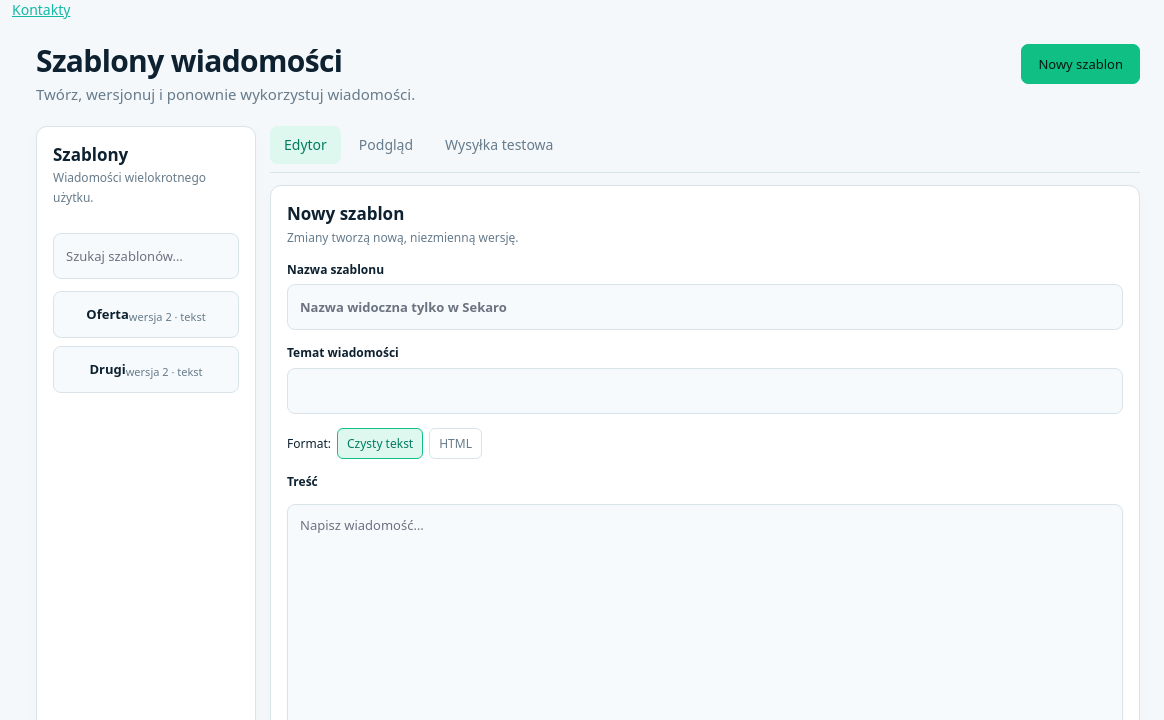
Test case: duplicates current content into an unsaved copy without writing or destroying its source
This screenshot has width=1164, height=720.
Click the button "Oferta wersja 2 · tekst".
click(146, 314)  # box [53,291,239,338]
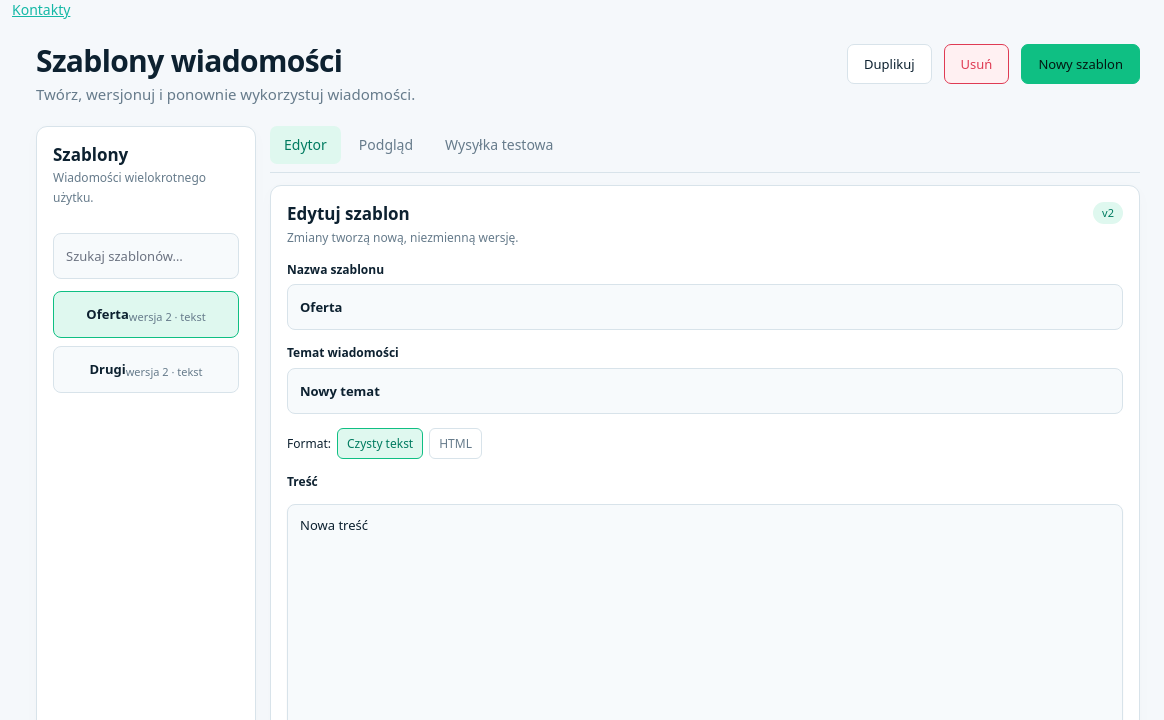
Now the field showing "Nowy temat" is shown
Replace the text in the field labelled "Temat wiadomości" with "Robocza kopia" at (705, 391), box [287,368,1123,414]
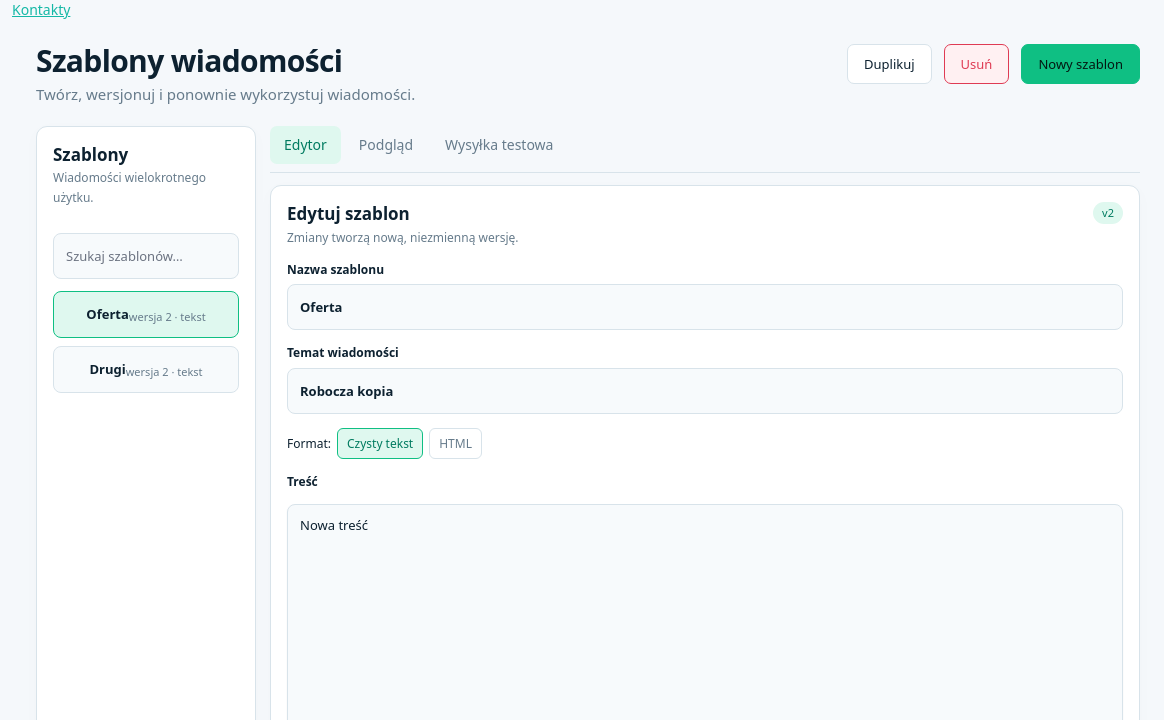
Click the button "Duplikuj".
click(889, 64)  # box [847,44,932,84]
(page scrolled)
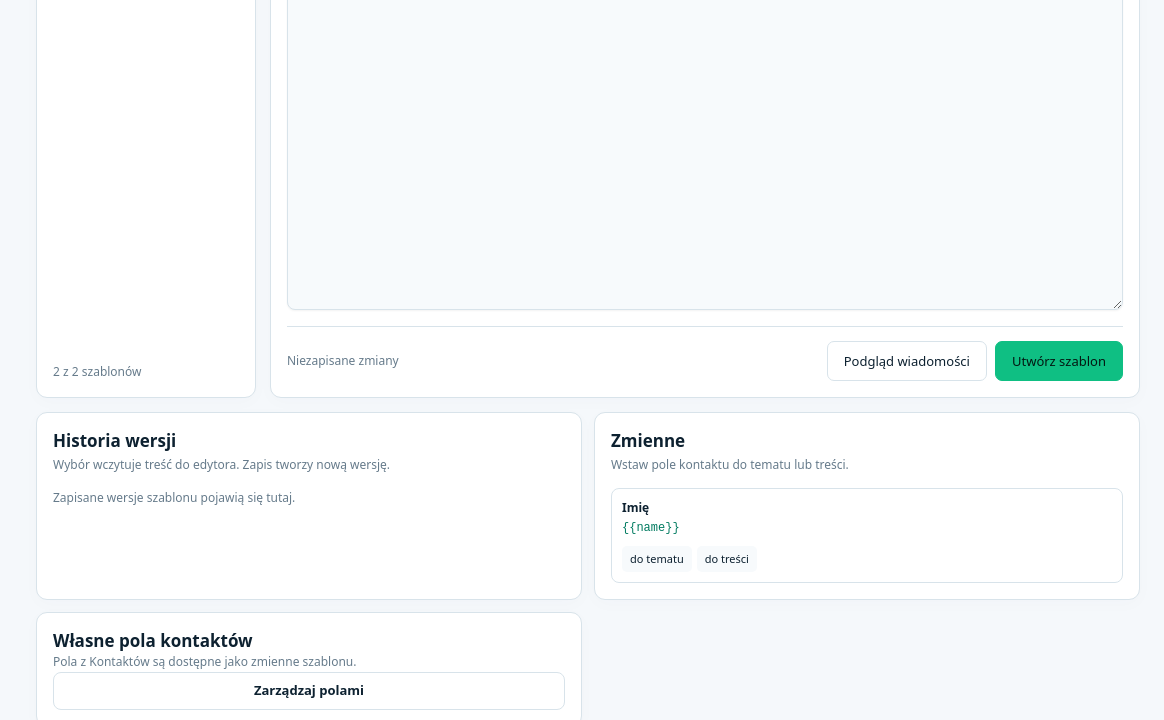
Now the button "Utwórz szablon" is shown, box [995,341,1123,381]
